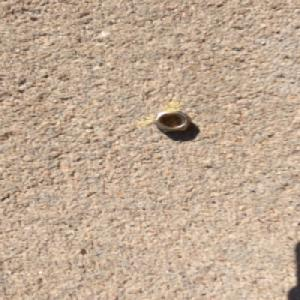Nut: (150, 107, 194, 133)
